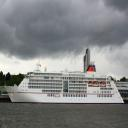cruises: (5, 58, 125, 106)
